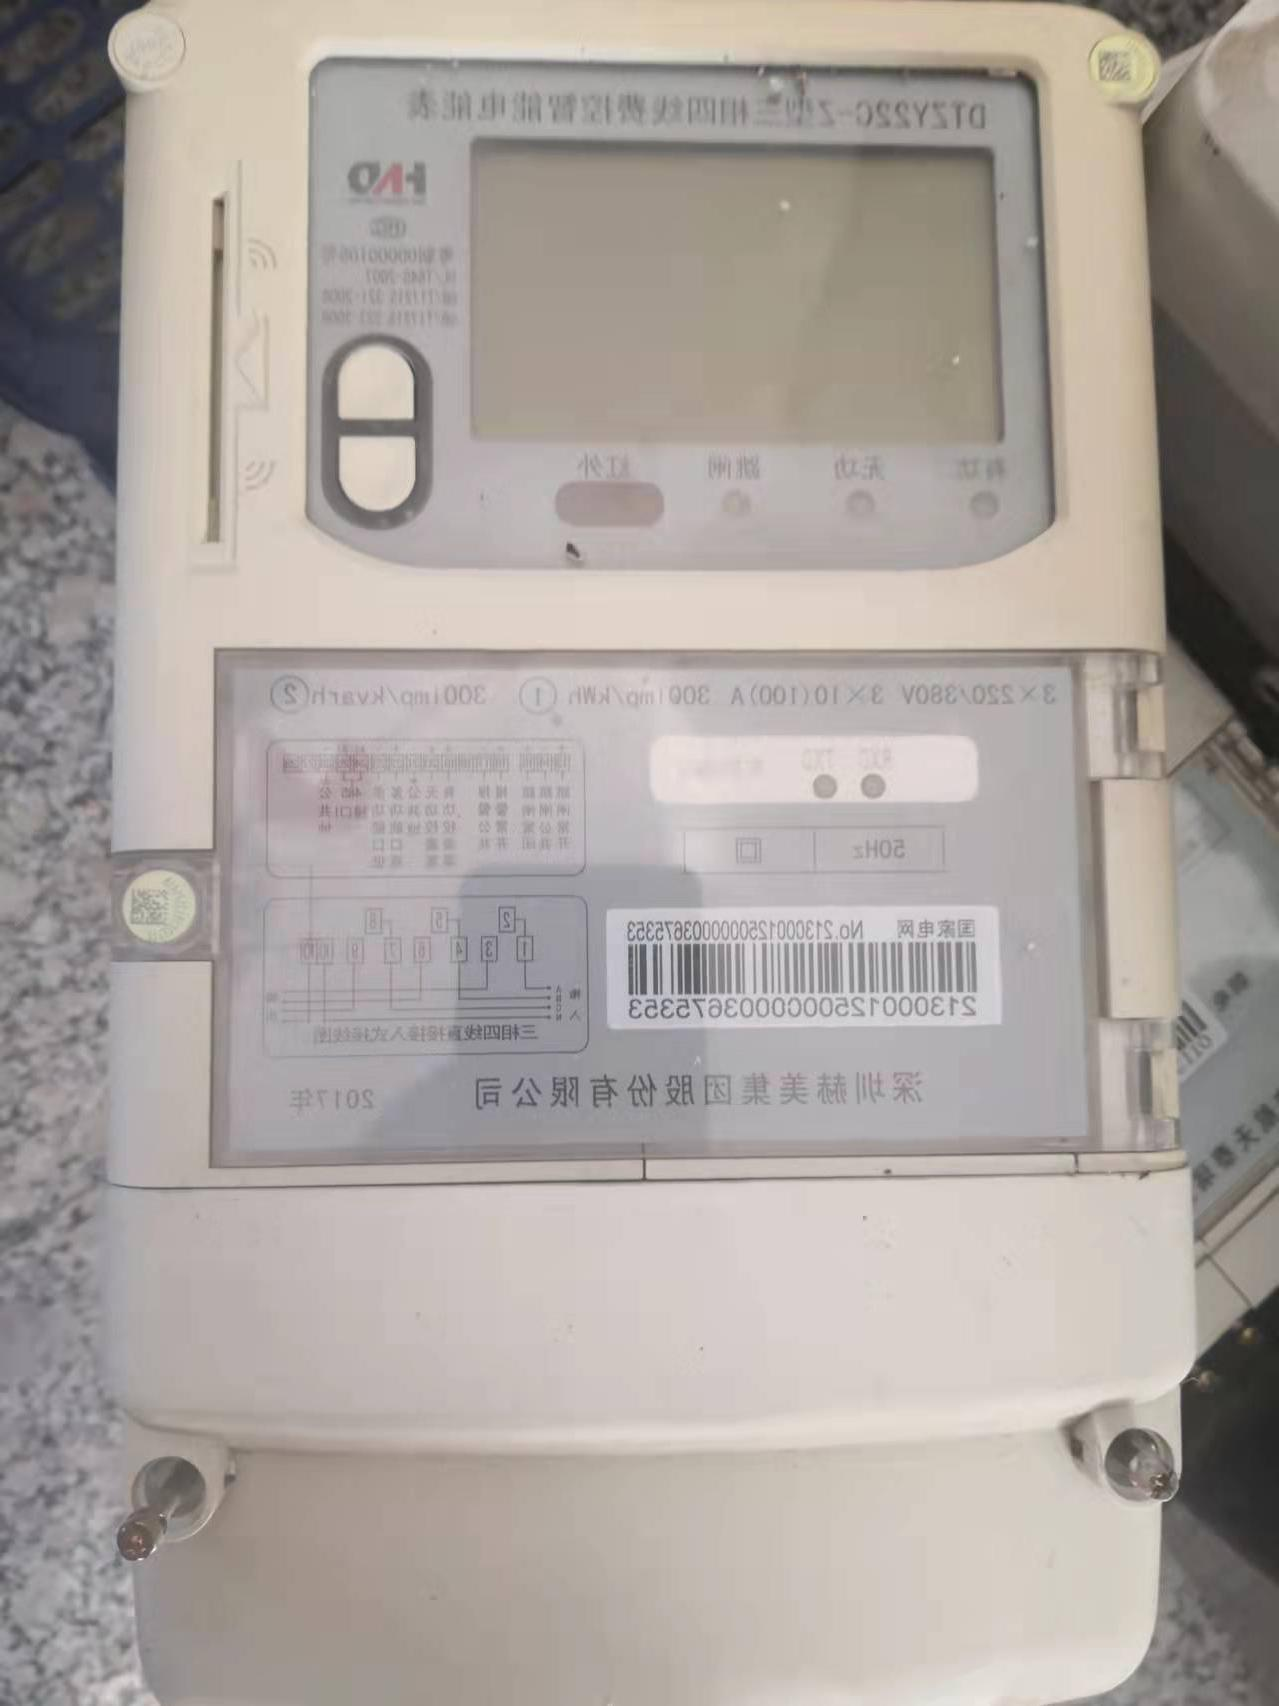digital: (105, 3, 1190, 1435)
